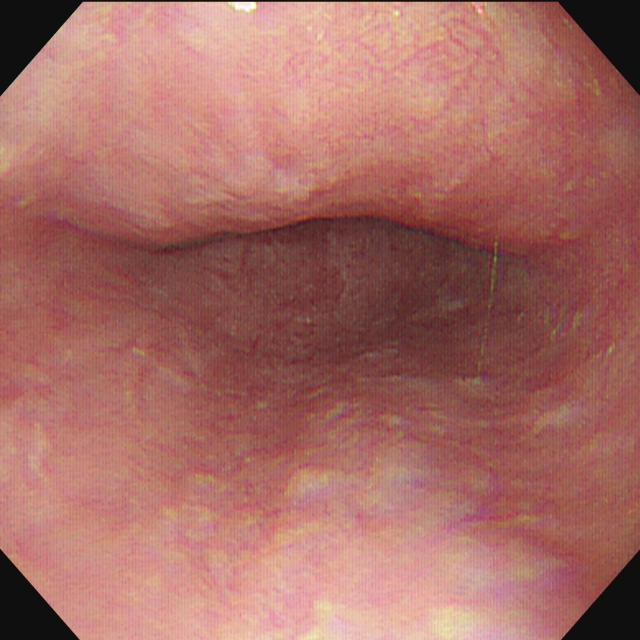E: (101, 188, 542, 376)
U: (228, 3, 267, 14)
